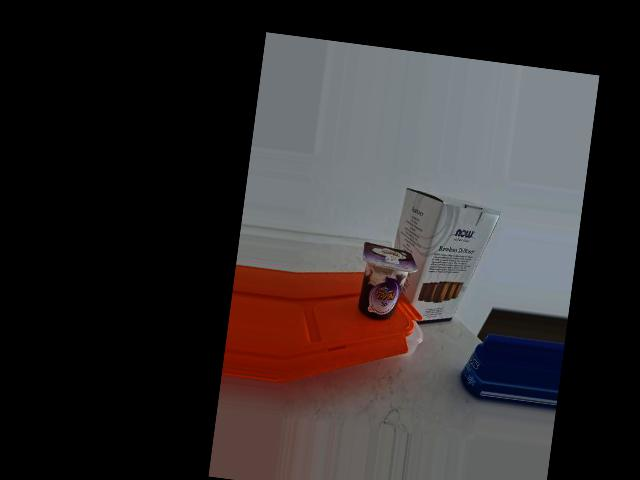milky: (349, 244, 419, 325)
